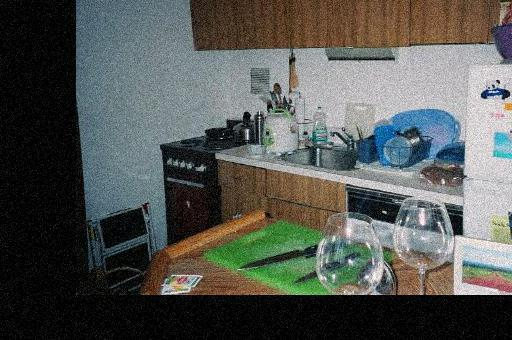Electrodomestico: (458, 68, 512, 278), (158, 148, 220, 259)
Lavaplatos: (272, 118, 355, 173)
Otro Obstaculo: (86, 202, 156, 277)
